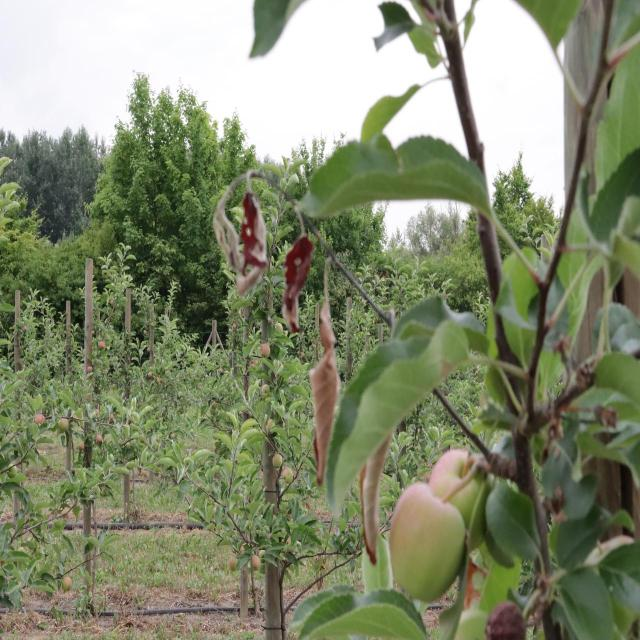-FireBlight-: (308, 266, 341, 481), (276, 197, 316, 335), (222, 184, 269, 290)
